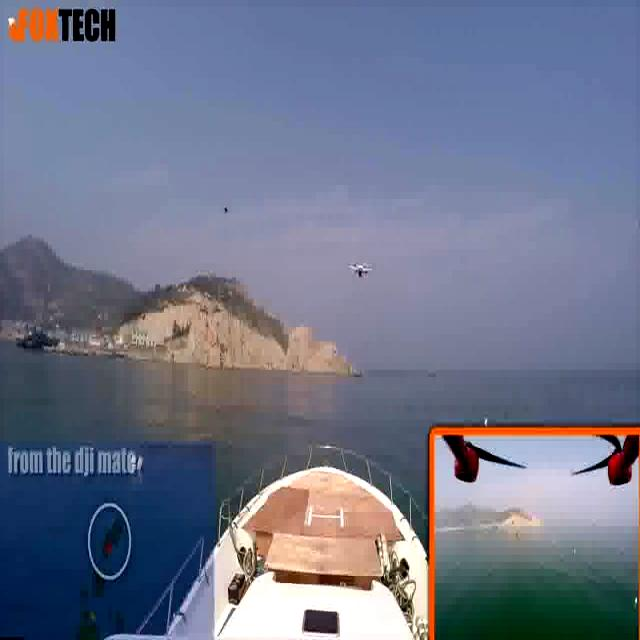drone: (344, 259, 374, 286)
